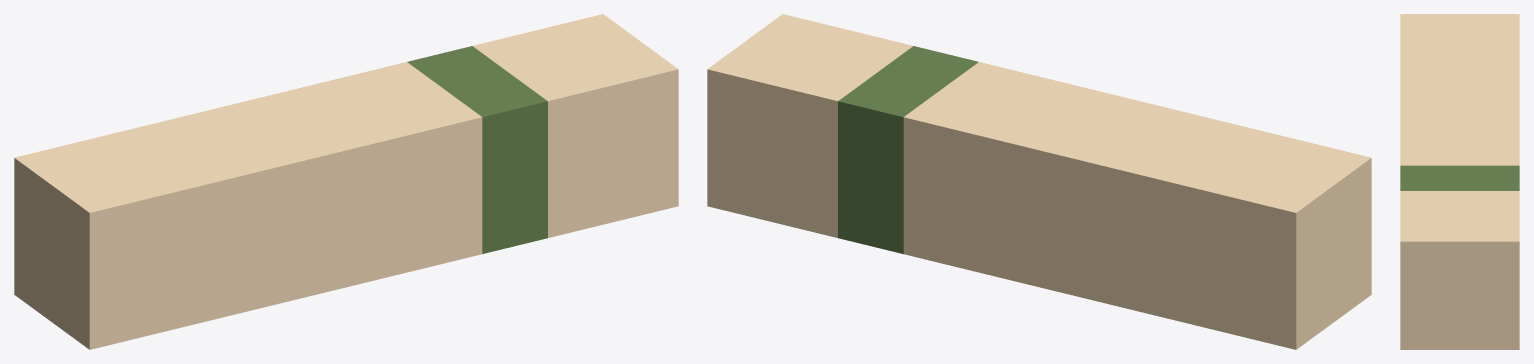
Rendered from ririfa-2.obj.
3 views of the same model, side by side, from view 1: azimuth 30°, elevation 25°; view 2: azimuth 150°, elevation 25°; view 3: azimuth 270°, elevation 25° (orthographic). The views are drawn at different scales.
Parts seen in each view (by area): view 1: ririfa-2; view 2: ririfa-2; view 3: ririfa-2.
Part boxes in pixels (box(x1,y1,x2,y2)): ririfa-2: box(14, 14, 678, 349); ririfa-2: box(707, 14, 1371, 349); ririfa-2: box(1400, 14, 1519, 349).
Size of the model in its own units: 9 by 2 by 2.
1 material, 1 textured.
